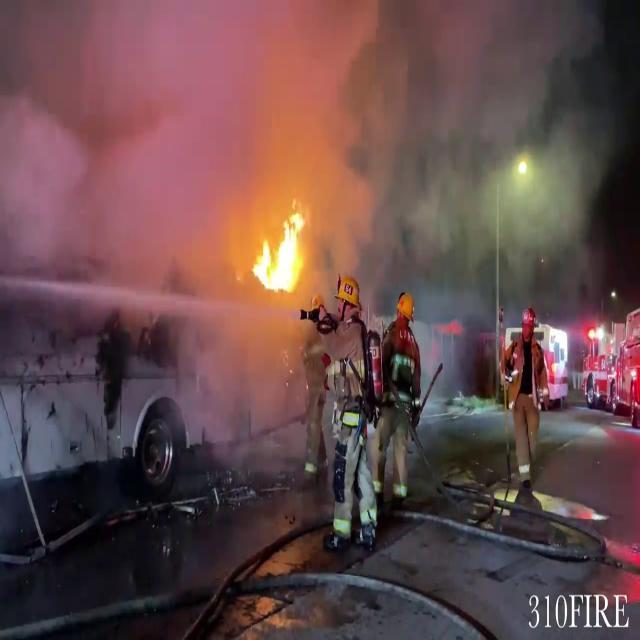Fire: (247, 206, 309, 296)
Smoke: (0, 0, 530, 384)
